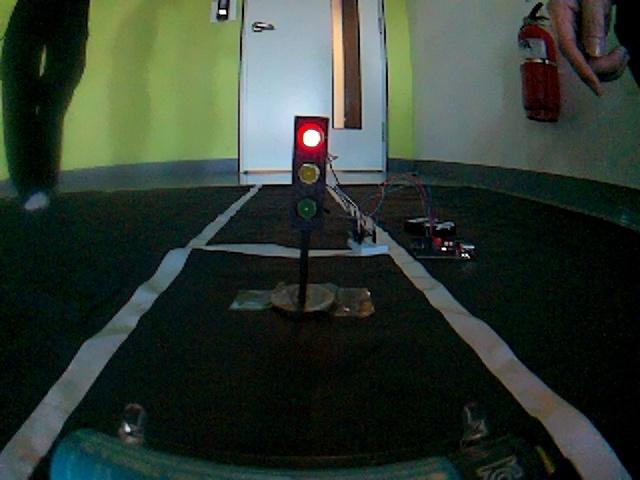go: (3, 375, 633, 480)
red_light: (143, 88, 491, 369)
